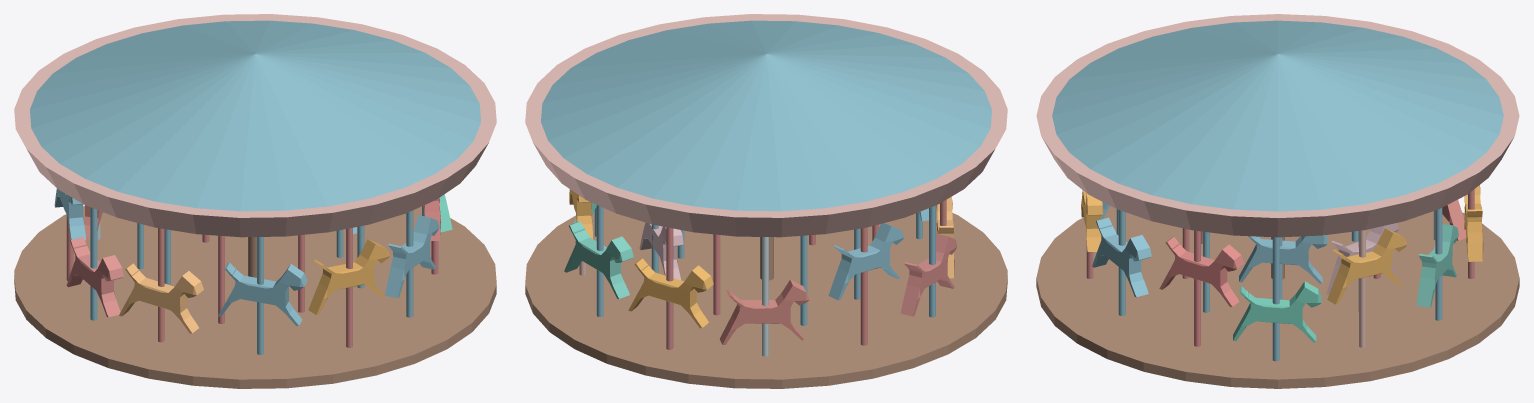
File: Carrousel.fbx
3 views of the same model, side by side, from view 1: azimuth 30°, elevation 25°; view 2: azimuth 150°, elevation 25°; view 3: azimuth 270°, elevation 25° (orthographic).
Parts seen in each view (by area): view 1: Carrousel; view 2: Carrousel; view 3: Carrousel.
Boxes of the visible parts, <box> form: Carrousel: <box>14,14,496,388</box>; Carrousel: <box>525,14,1007,388</box>; Carrousel: <box>1036,14,1519,388</box>.
Size of the model in its own units: 700 by 372 by 700.
